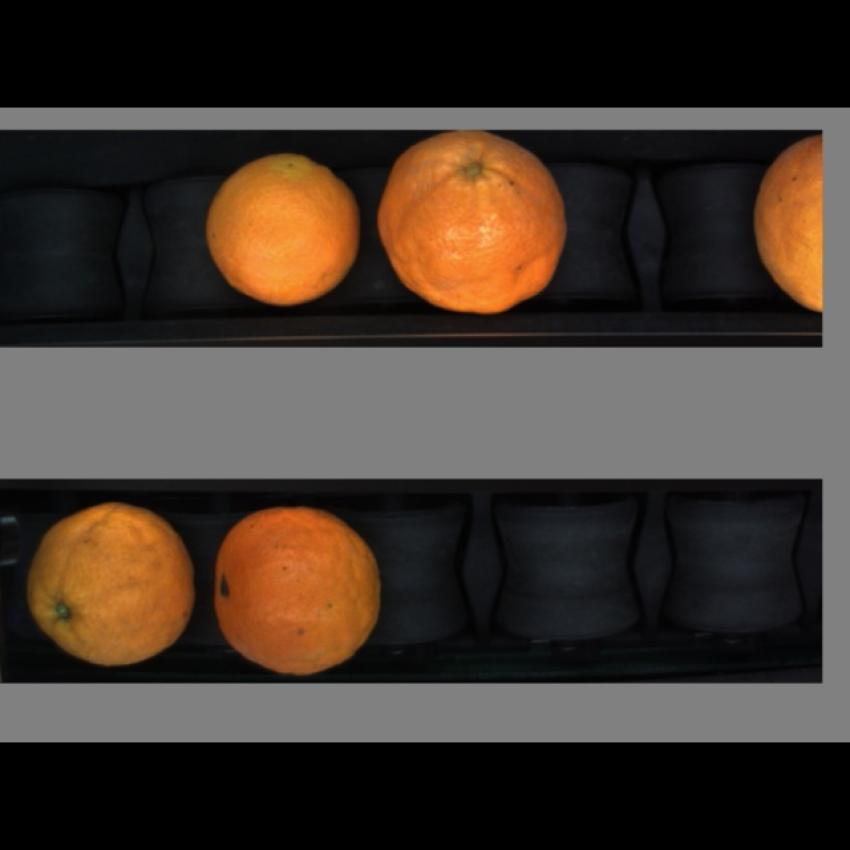Buen estado: (208, 500, 385, 680), (199, 145, 365, 313)
Mal estado: (370, 138, 578, 314), (21, 495, 199, 670), (746, 130, 824, 325)
